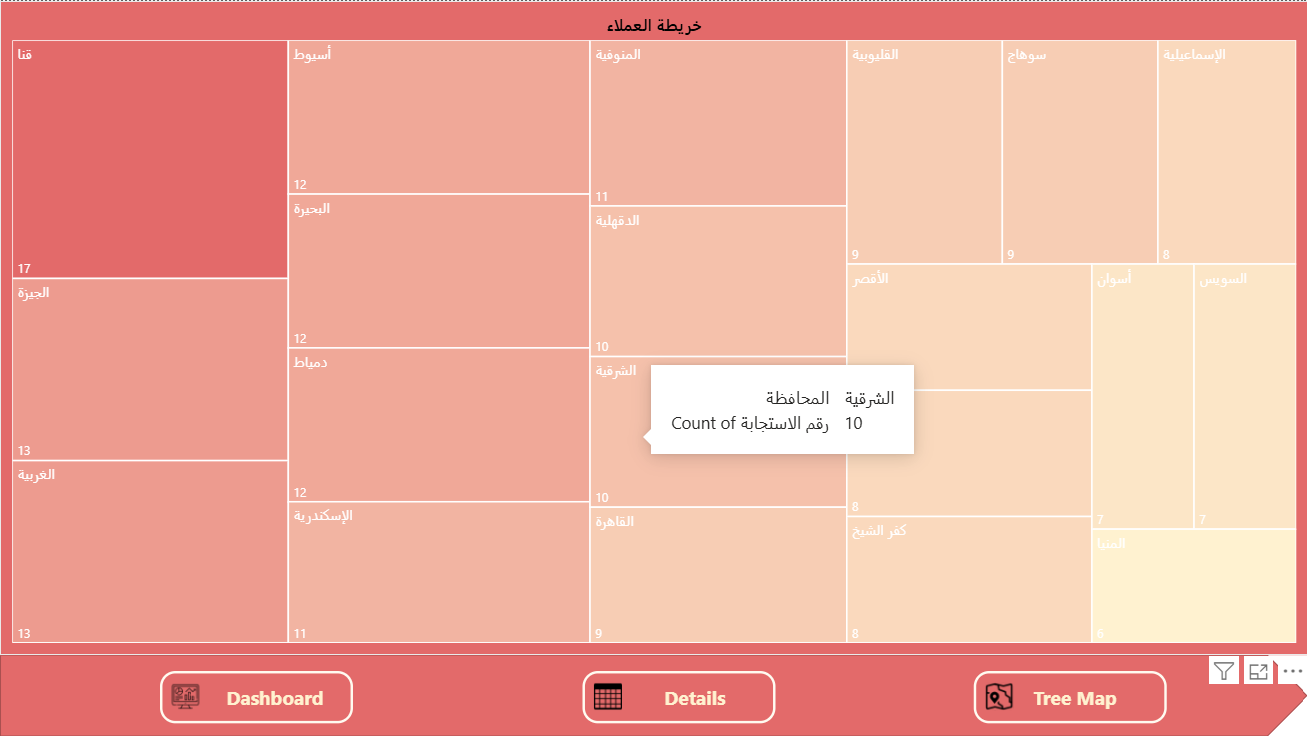

This screenshot's page, from the dashboard's own definition file:
{"tool":"powerbi","page":{"name":"TreeMap","canvas":[1280,720],"ordinal":2},"visuals":[{"type":"shape","box":[0,640,1280,80],"z":0},{"type":"actionButton","box":[156.9,656,188.6,51.4],"z":1000},{"type":"actionButton","box":[569.7,656,188.6,51.4],"z":2000},{"type":"actionButton","box":[952.6,656,188.6,51.4],"z":3000},{"type":"treemap","title":"خريطة العملاء","fields":{"Group":["بيانات الاستبيان.المحافظة"],"Values":["Count(بيانات الاستبيان.رقم الاستجابة)"]},"box":[0,0,1280,640],"z":4000}]}

Visuals, with their boxes in screenshot pixels (x1, y1, x2, y2), scaled from the page's 1280x720 canvas onto the 1307x736 screenshot:
shape: crop(0, 654, 1306, 735)
actionButton: crop(160, 671, 353, 723)
actionButton: crop(582, 671, 774, 723)
actionButton: crop(973, 671, 1165, 723)
"خريطة العملاء" treemap: crop(0, 0, 1306, 654)
